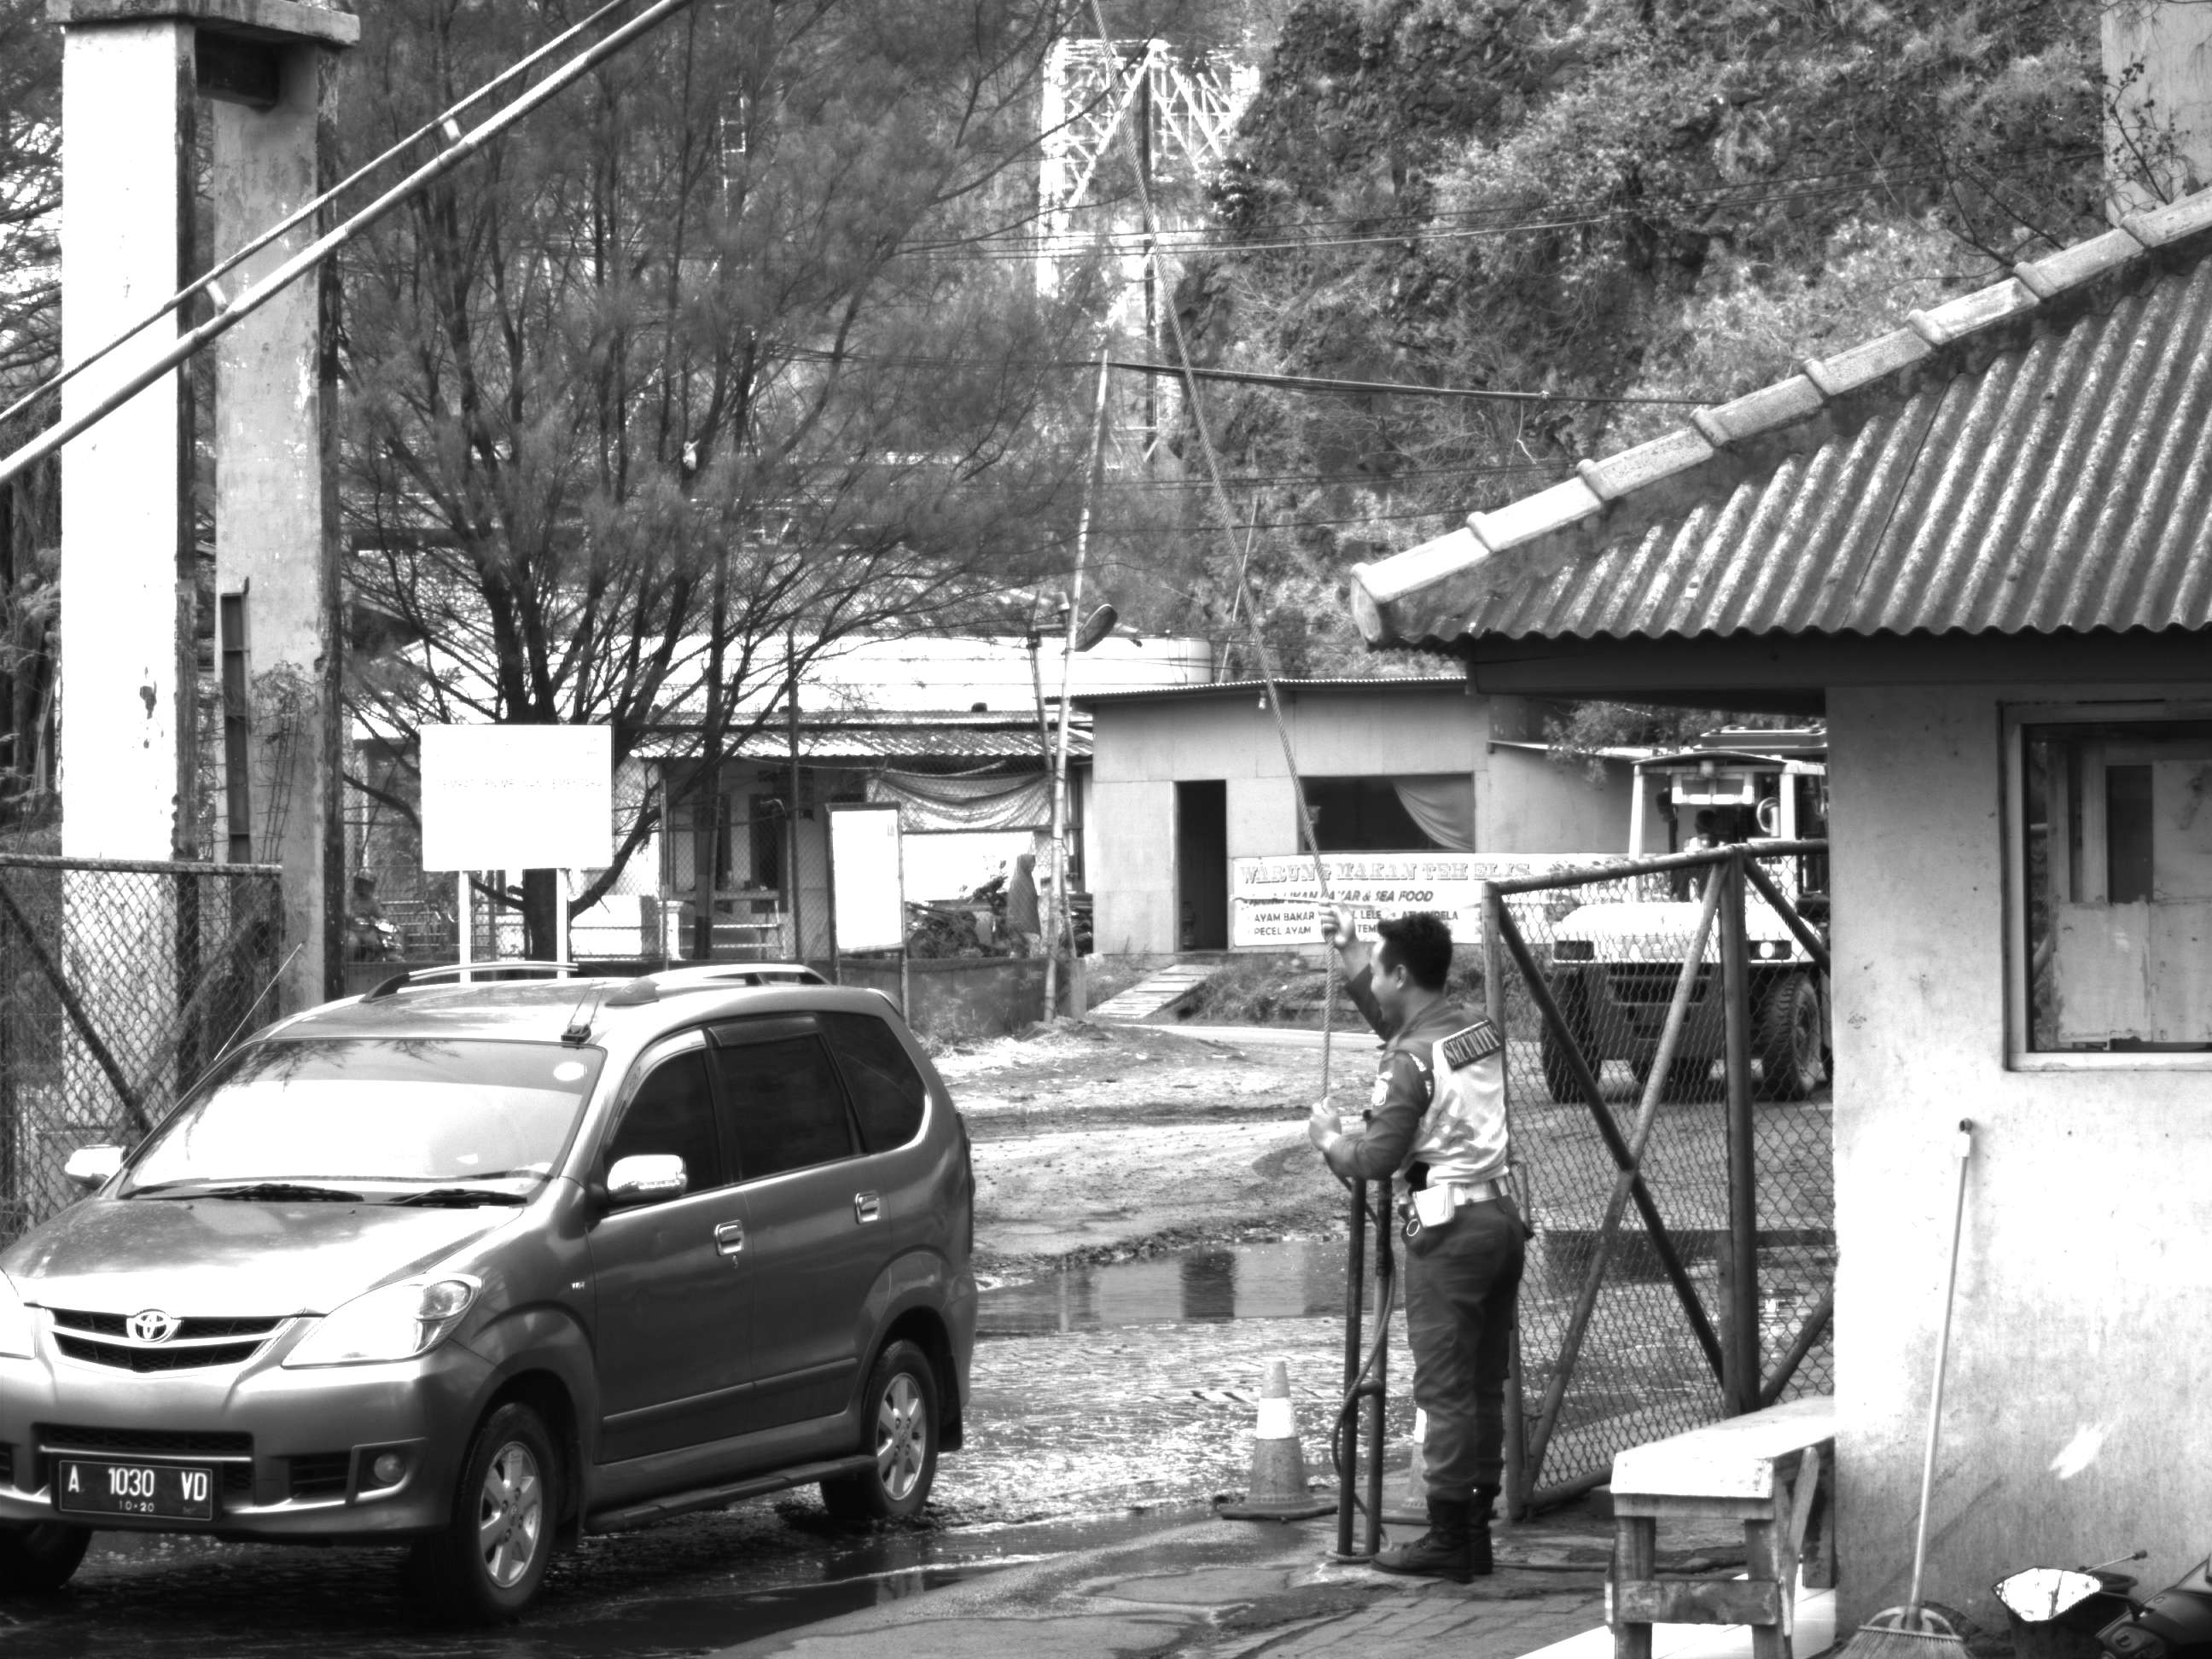day_small_front: (2, 934, 632, 1627)
plate: (59, 1456, 216, 1513)
